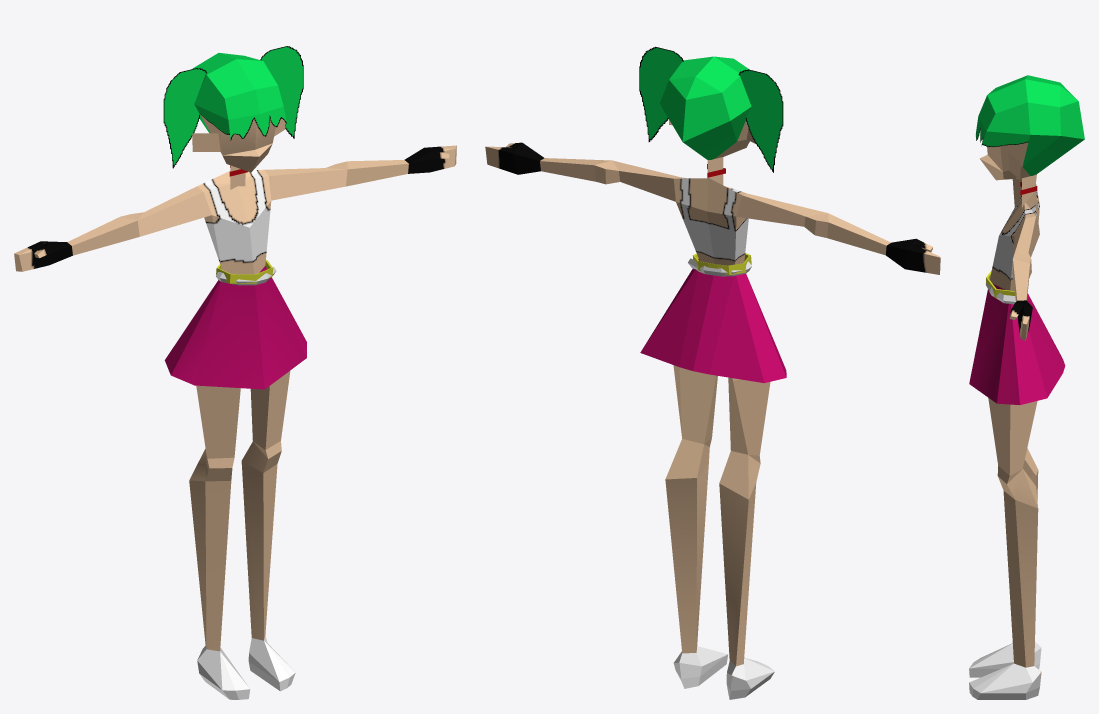
3 renders of one model, left to right at view 1: azimuth 30°, elevation 25°; view 2: azimuth 150°, elevation 25°; view 3: azimuth 270°, elevation 25°, orthographic. The views are drawn at different scales.
Parts seen in each view (by area): view 1: Body, Hair; view 2: Body, Hair; view 3: Body, Hair, Plane, belt.
Boxes of the visible parts, box(x1,y1,x2,y2) form: Body: box(14, 53, 456, 699); Hair: box(163, 46, 303, 168); Body: box(485, 56, 940, 699); Hair: box(639, 46, 783, 172); Body: box(969, 75, 1084, 699); Hair: box(976, 75, 1030, 146); Plane: box(986, 283, 1015, 304); belt: box(986, 270, 1014, 298).
Bounding box in the file's own units: 3.36 × 4.62 × 0.7747.
4 materials, 4 textured.
